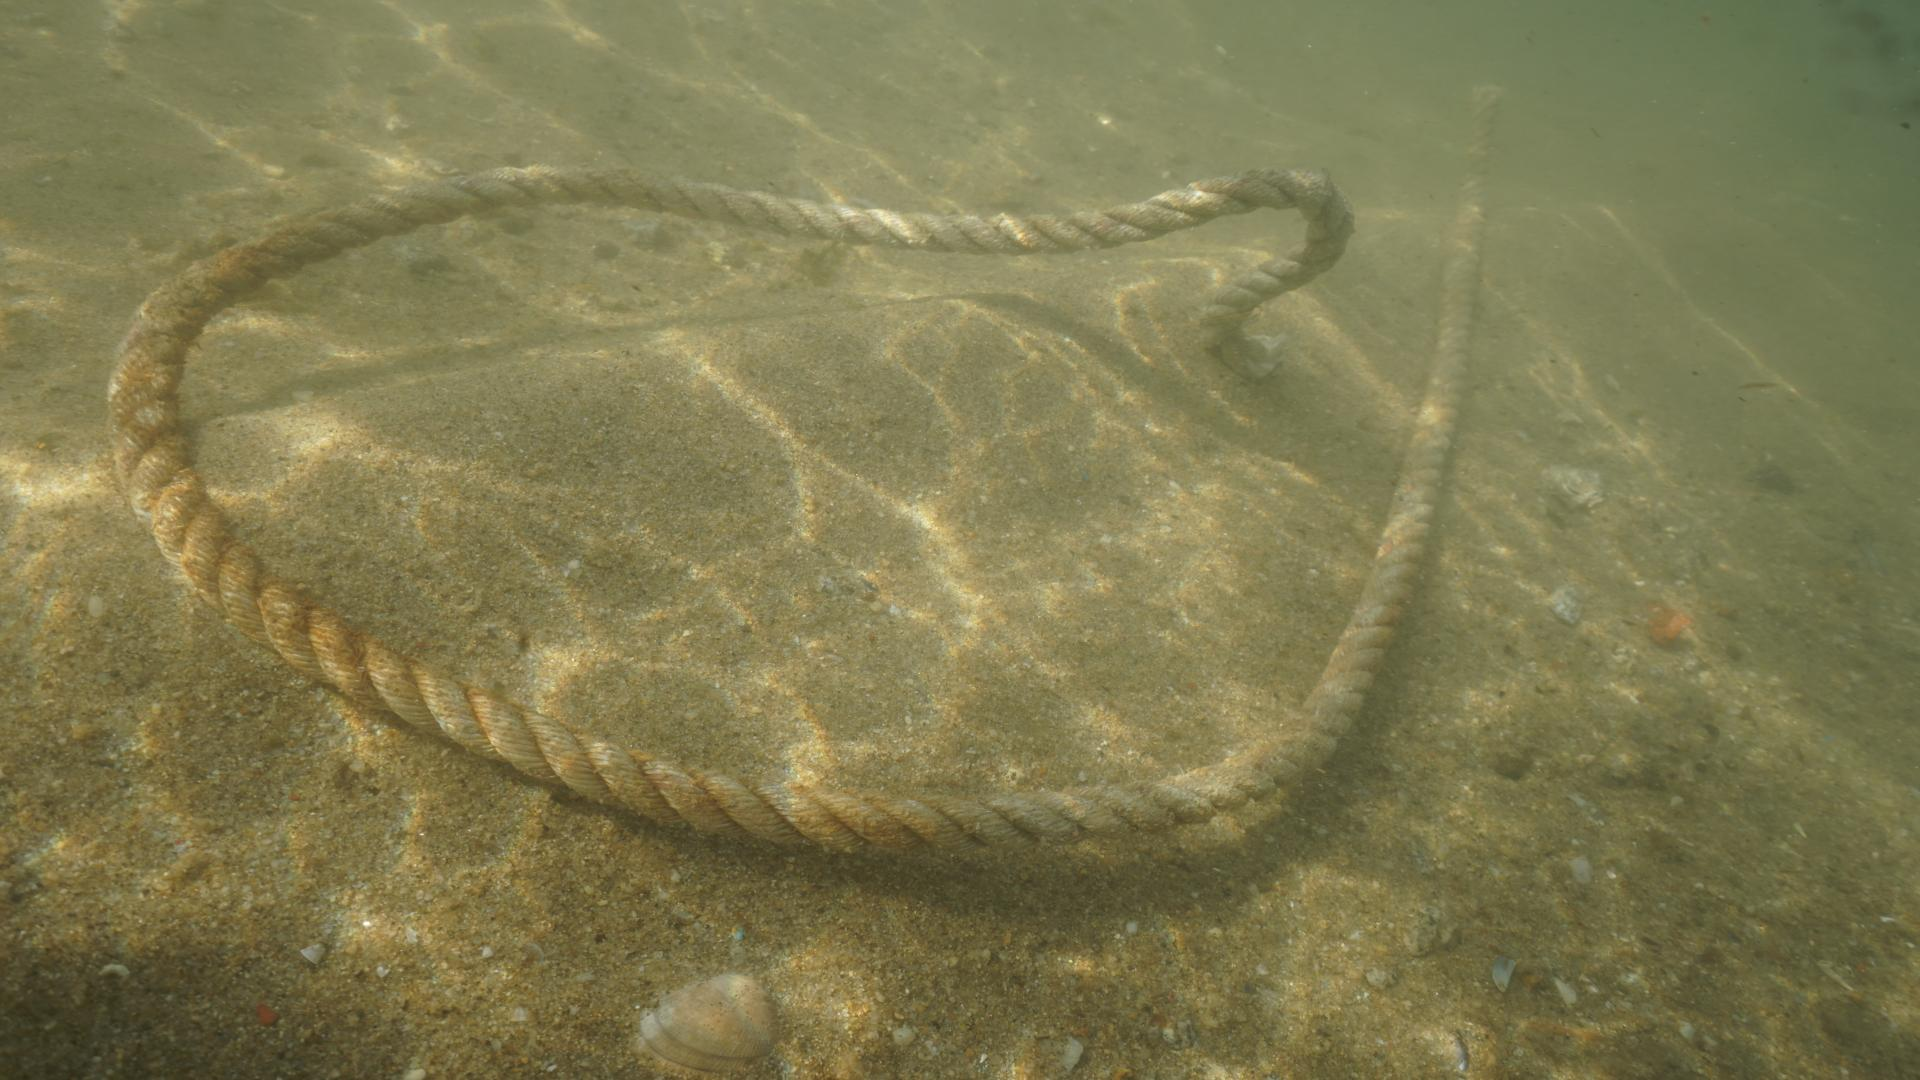rope: (100, 84, 1501, 866)
